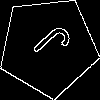J: (23, 21, 74, 71)
